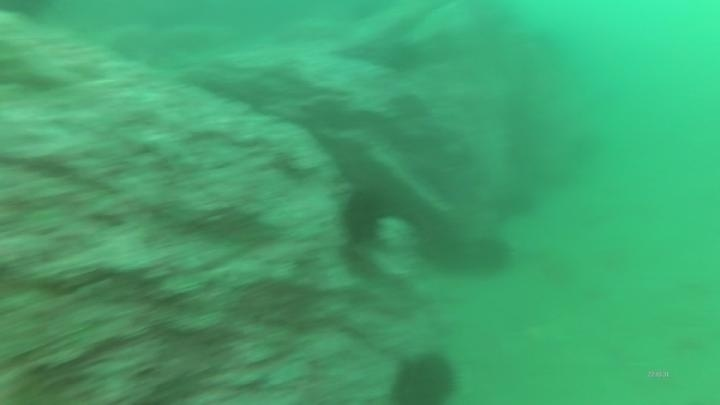echinus: (386, 347, 464, 405), (337, 185, 389, 248), (465, 232, 515, 279), (378, 37, 425, 76)
